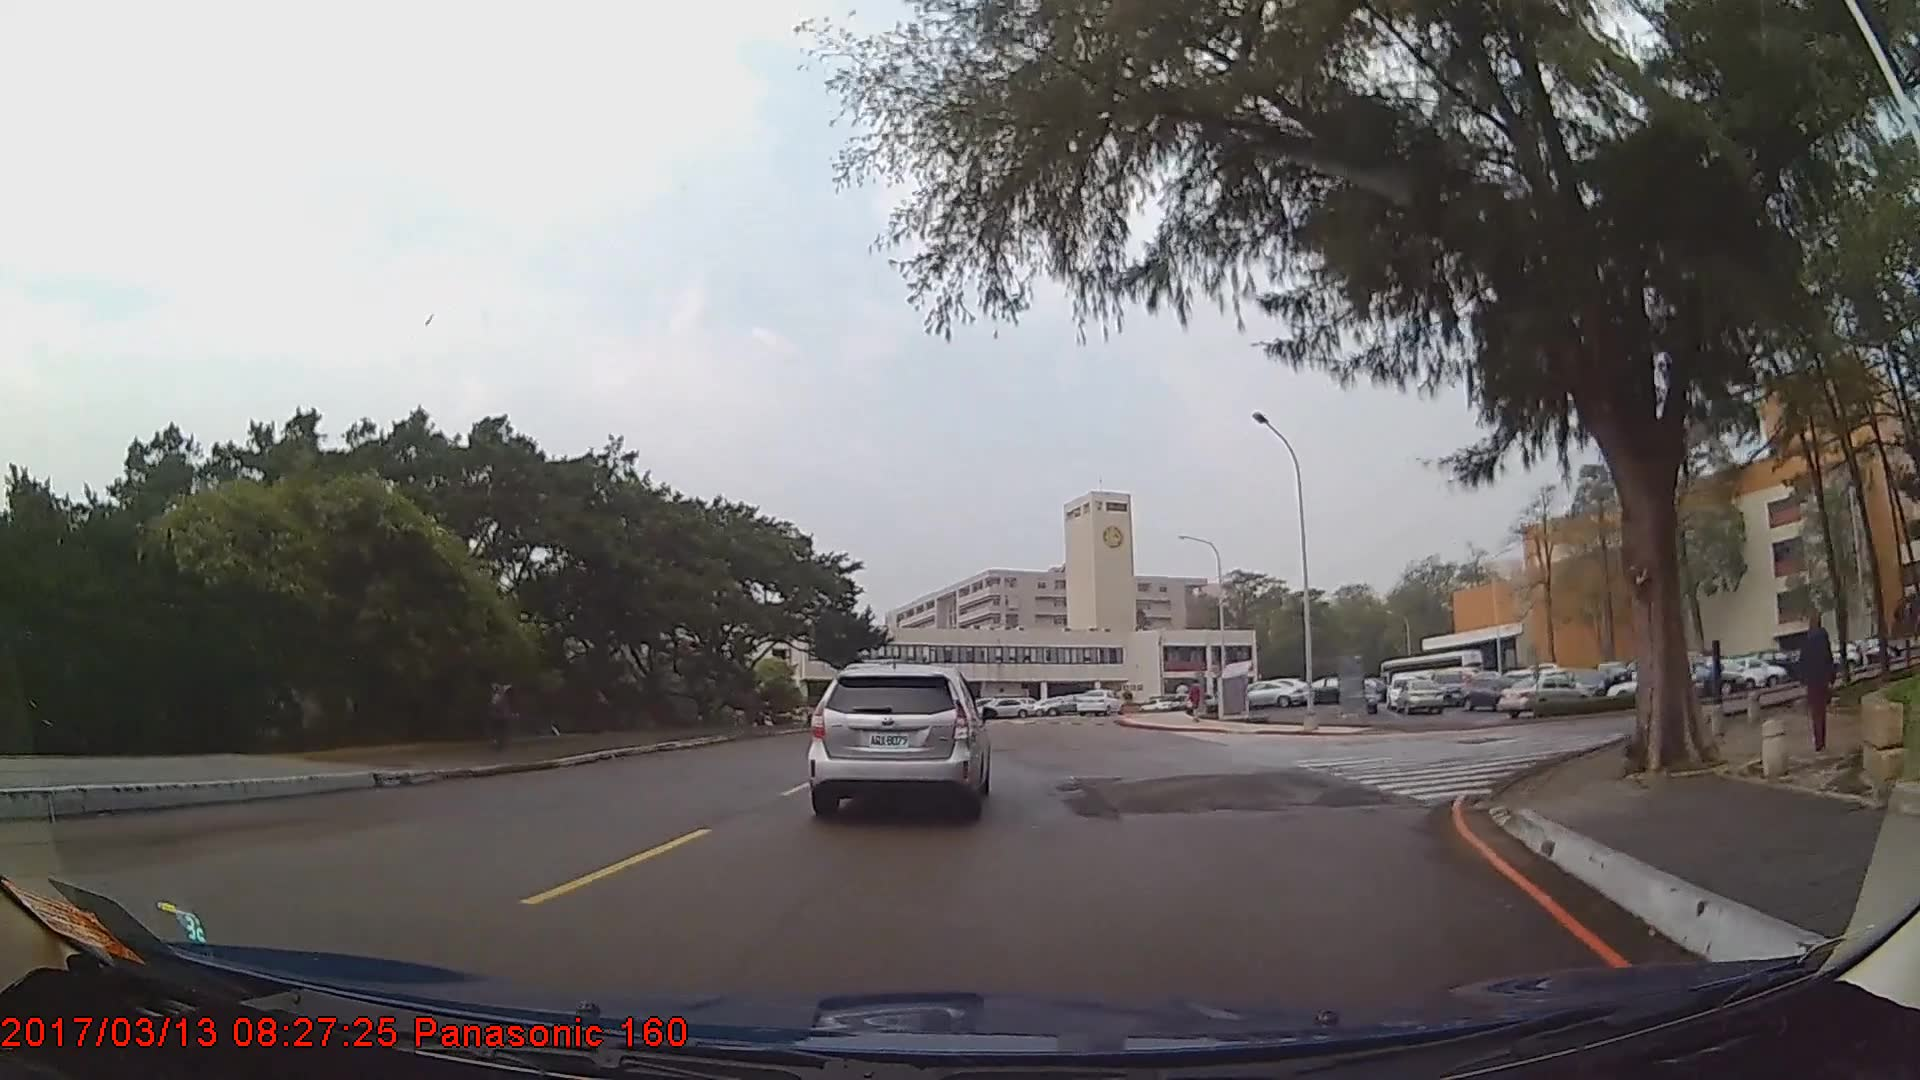pedestrian: (1789, 620, 1835, 754), (482, 670, 522, 754)
vehicle: (809, 661, 990, 819), (1495, 672, 1590, 719), (1457, 670, 1532, 710), (1234, 683, 1303, 709), (1395, 680, 1442, 718), (1429, 672, 1470, 710), (1073, 687, 1122, 717), (975, 696, 1036, 719)
